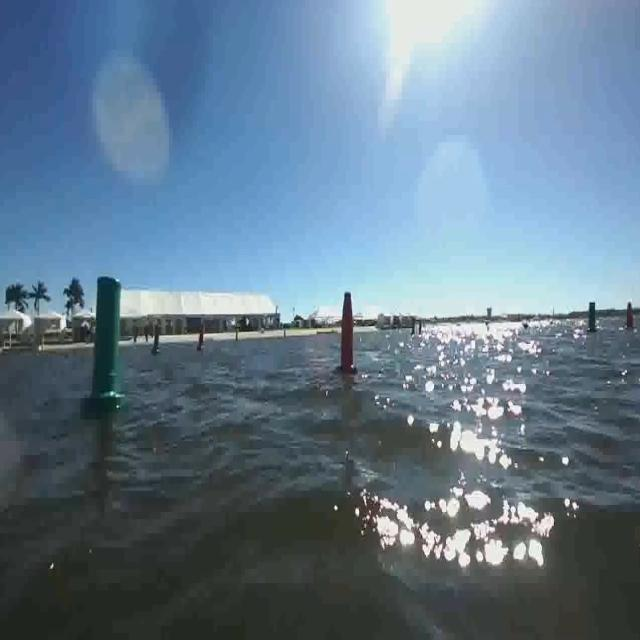green-column-buoy: (84, 274, 126, 418), (587, 301, 600, 334), (150, 322, 162, 356)
red-column-buoy: (338, 290, 358, 378), (626, 300, 636, 329), (198, 326, 208, 354)
